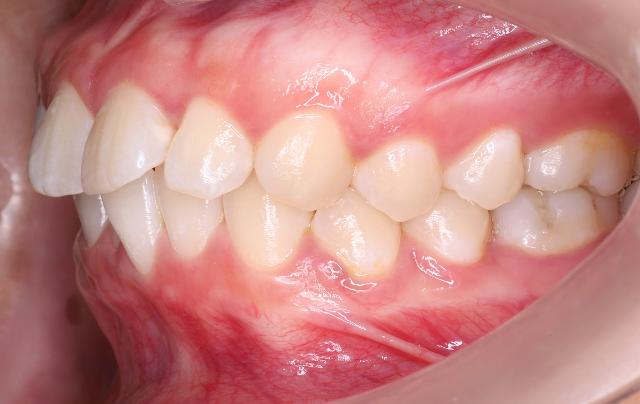canine class II 1/4: (223, 109, 404, 287)
molar class III 1/4: (490, 124, 638, 260)
